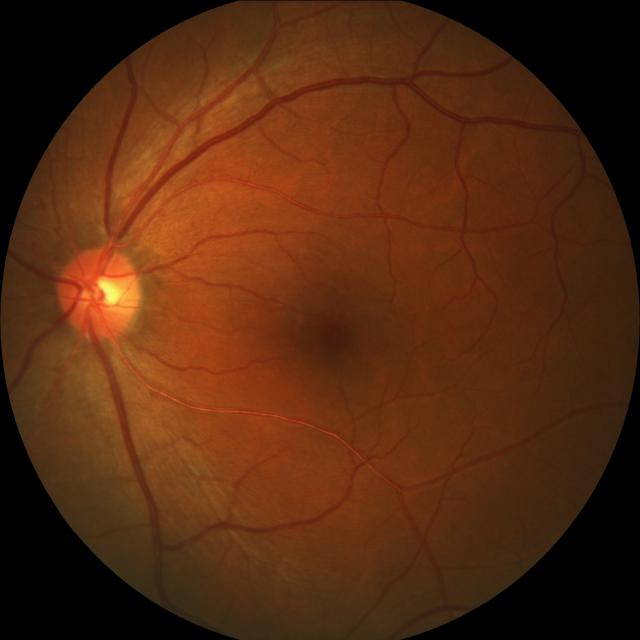OC: (81, 272, 122, 314)
OD: (59, 244, 145, 338)
